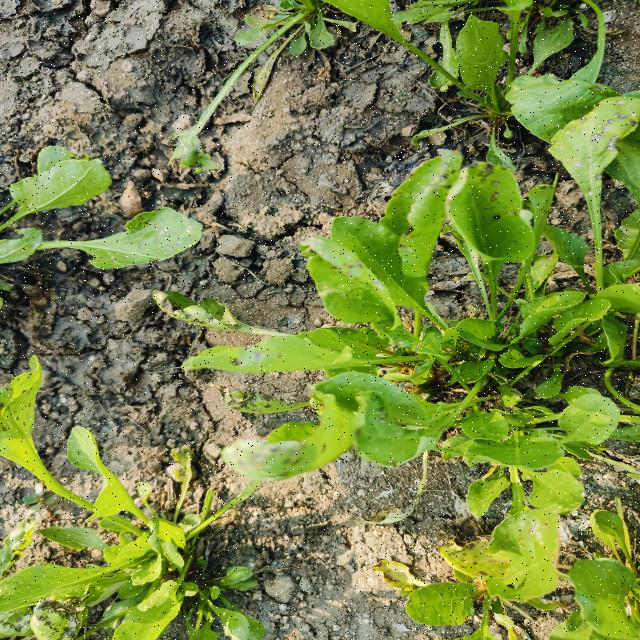leaves: (162, 281, 470, 401), (171, 416, 378, 562), (11, 197, 240, 310), (548, 76, 640, 323), (316, 367, 497, 478), (324, 189, 445, 349), (434, 158, 549, 315), (384, 139, 474, 335), (1, 349, 85, 540), (106, 540, 238, 640), (1, 153, 132, 241), (58, 417, 146, 544), (1, 559, 139, 637), (434, 20, 516, 121), (478, 507, 562, 604), (529, 379, 609, 478), (383, 578, 493, 640)
